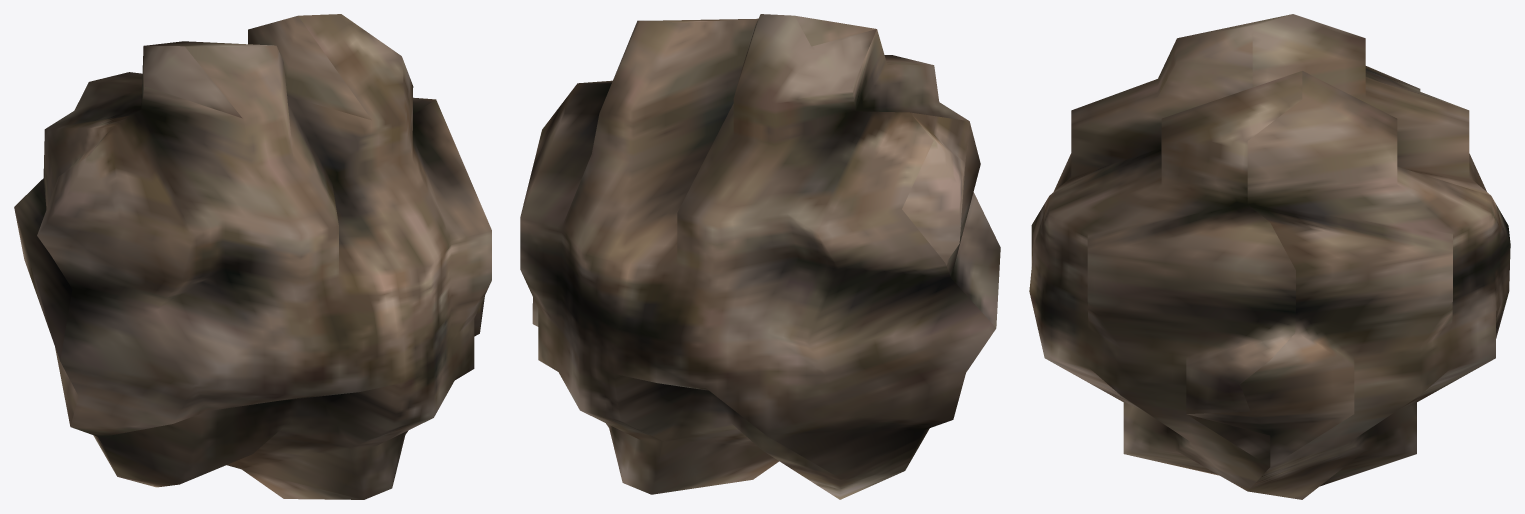
The model's file is BOULDER_HILL_05.fbx.
3 renders of one model, left to right at view 1: azimuth 30°, elevation 25°; view 2: azimuth 150°, elevation 25°; view 3: azimuth 270°, elevation 25°, orthographic. The views are drawn at different scales.
Parts seen in each view (by area): view 1: BOULDER_HILL_05; view 2: BOULDER_HILL_05; view 3: BOULDER_HILL_05.
Boxes of the visible parts, left/top/right/bottom form: BOULDER_HILL_05: left=14, top=14, right=491, bottom=499; BOULDER_HILL_05: left=520, top=14, right=1000, bottom=499; BOULDER_HILL_05: left=1029, top=14, right=1510, bottom=499.
Bounding box in the file's own units: 22287 × 22663 × 22558.
1 material, 1 textured.
